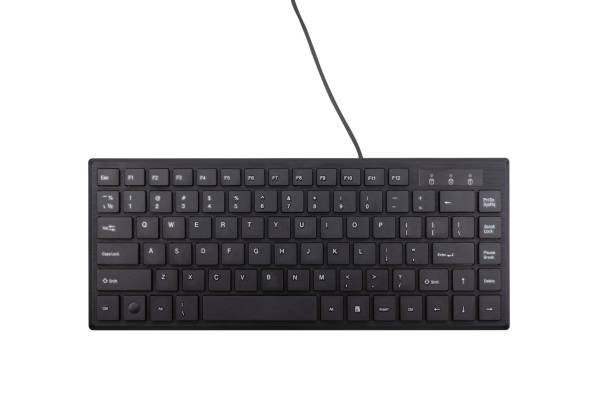keyboard: (88, 158, 510, 330)
